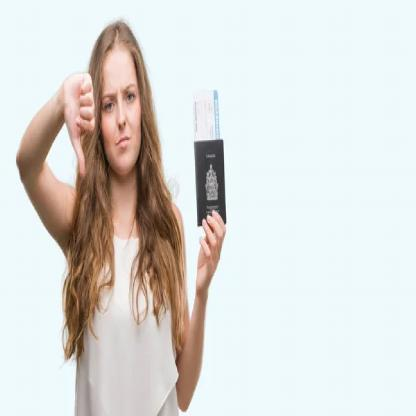thumb_down: (59, 66, 97, 180)
